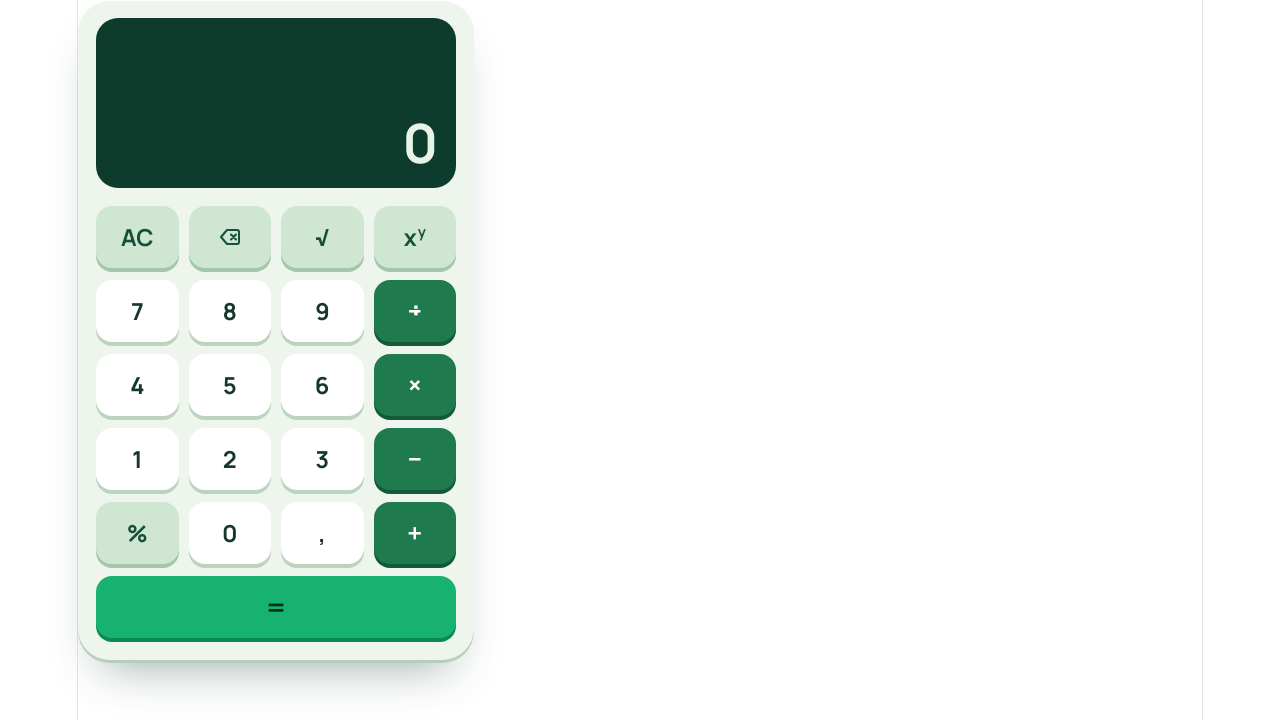
Test: <Calculator /> › muestra el error cuando el servicio falla
Step 1. Click the button "2" → (230, 459), box [188,428,271,490]
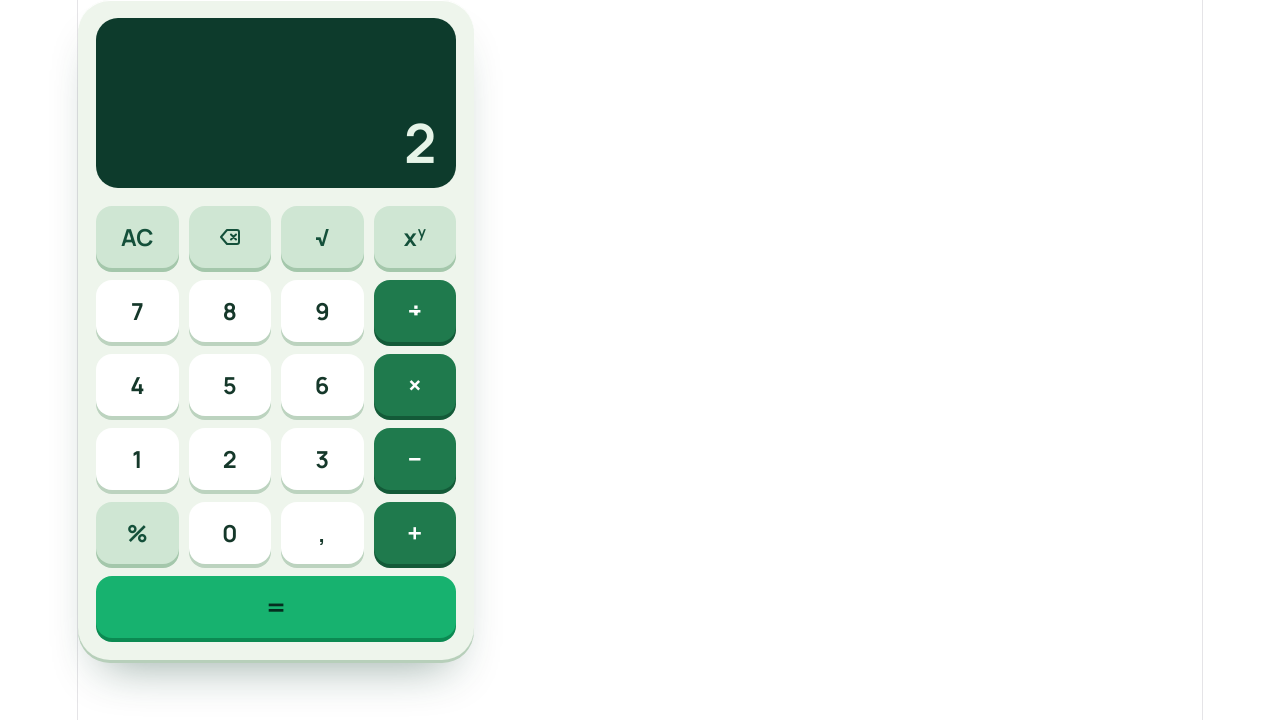
Step 2. Click the button named "Sumar" → (415, 533), box [374,502,456,564]
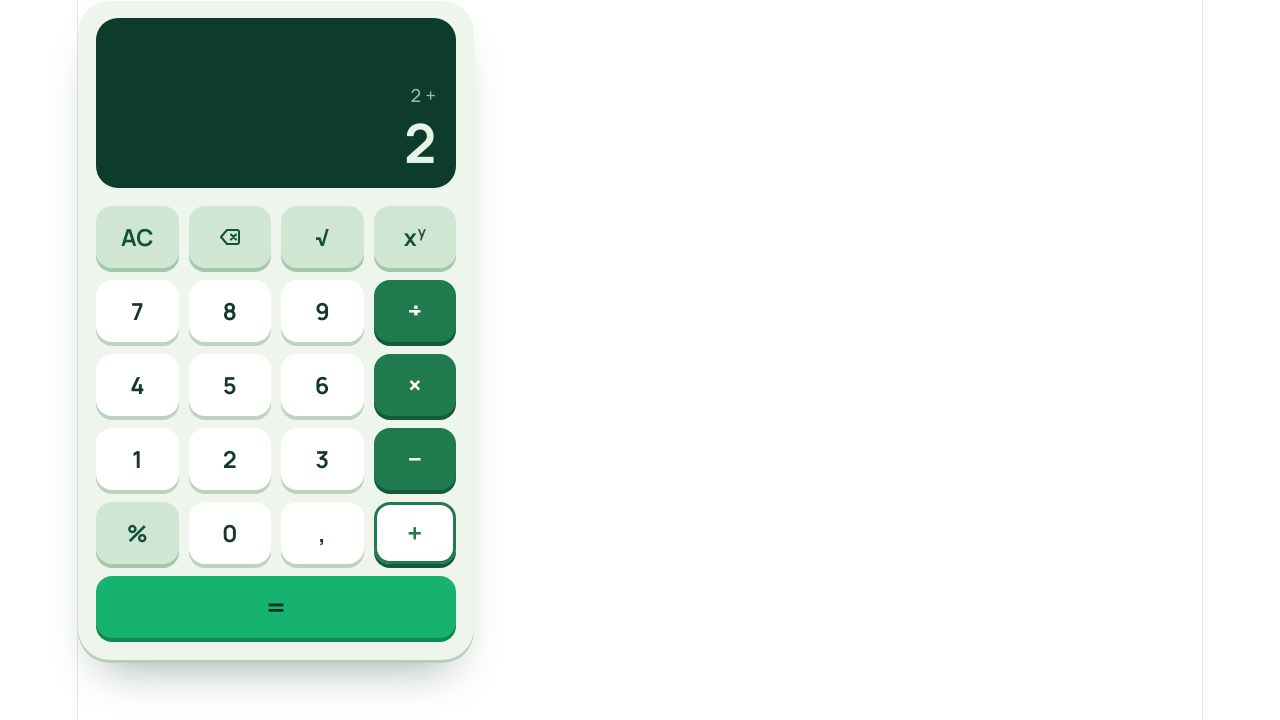
Step 3. Click the button "3" → (322, 459), box [281,428,364,490]
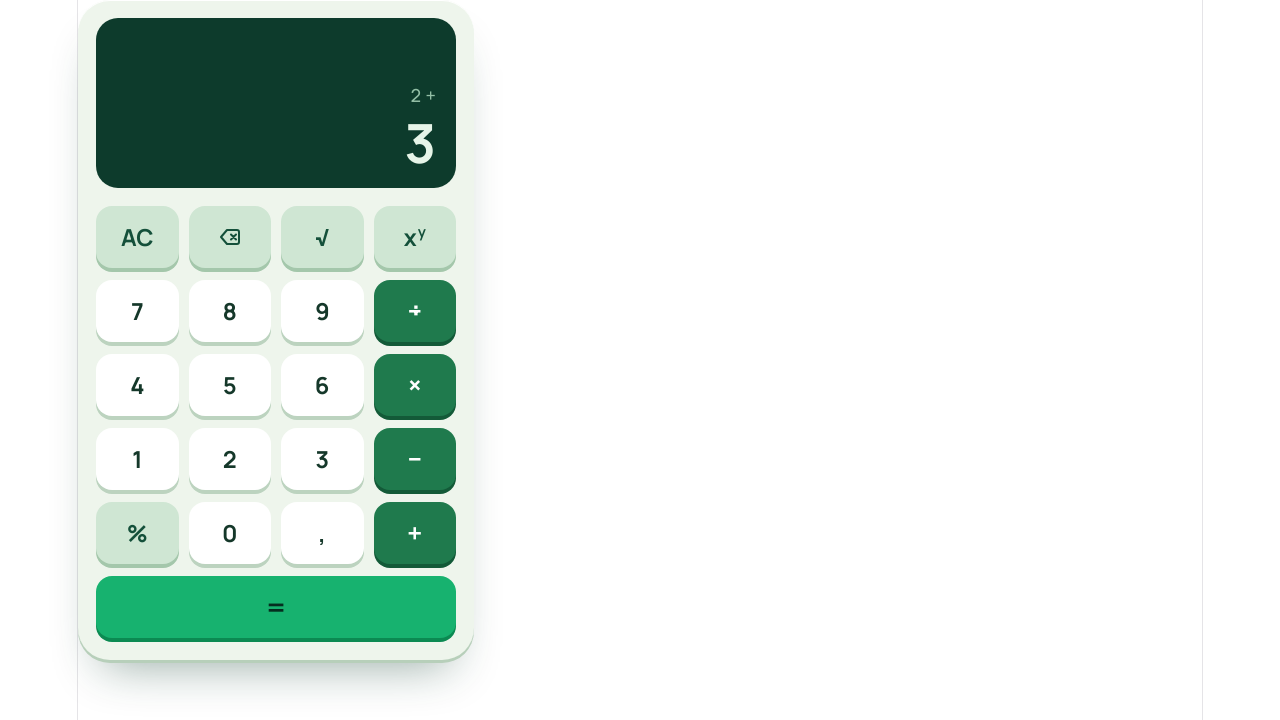
Step 4. Click the button named "Calcular resultado" → (276, 607), box [96,576,456,638]
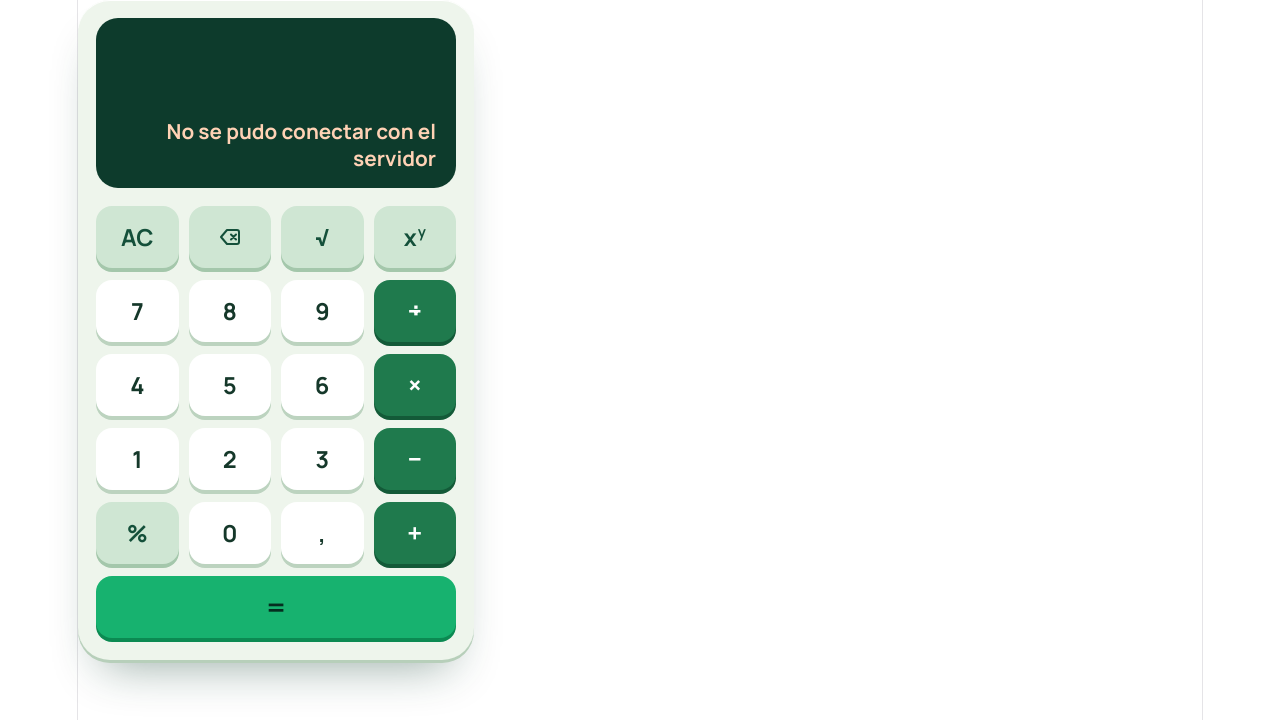
Result: the message reads "No se pudo conectar con el servidor" at [167,117,436,172]
